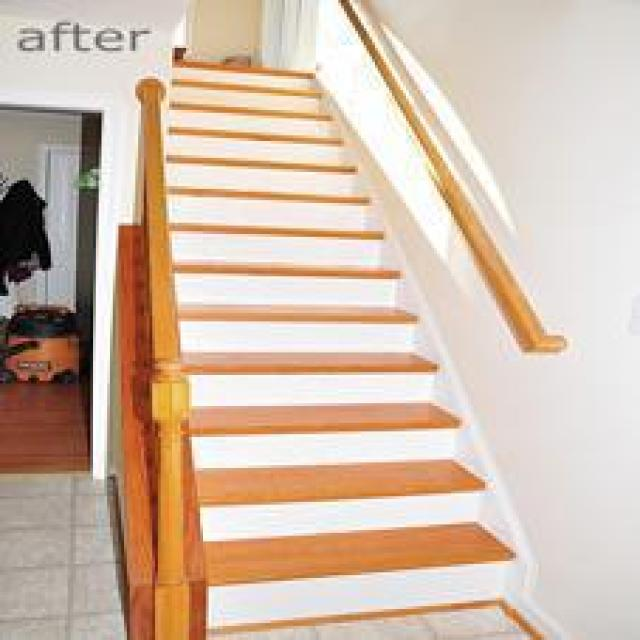upstair: (196, 467, 554, 636)
